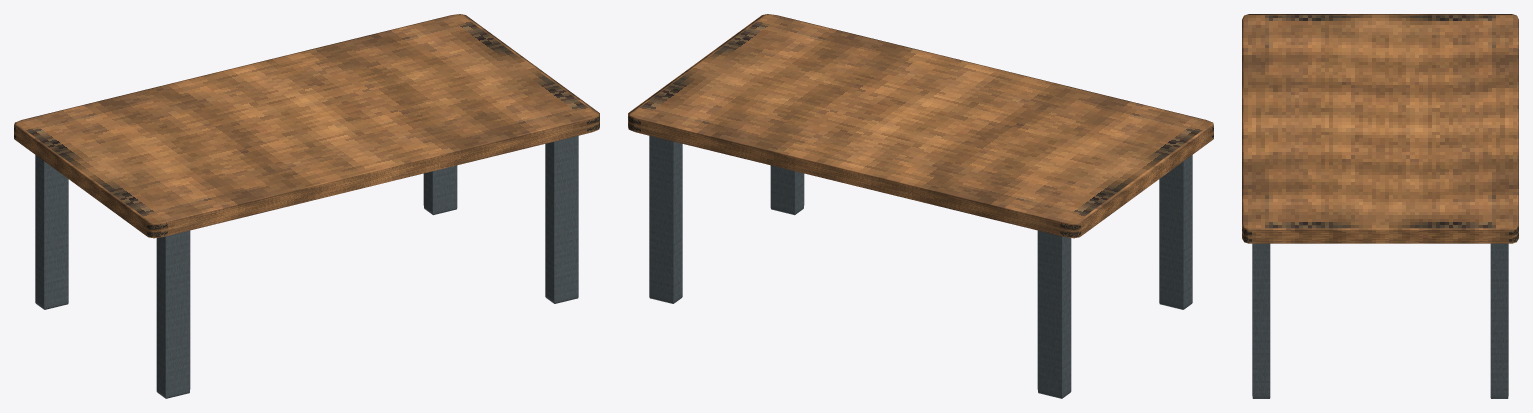
The model's file is coffee-table.glb.
3 renders of one model, left to right at view 1: azimuth 30°, elevation 25°; view 2: azimuth 150°, elevation 25°; view 3: azimuth 270°, elevation 25°, orthographic.
Parts seen in each view (by area): view 1: top, leg (×4); view 2: top, leg (×4); view 3: top, leg (×2).
Part boxes in pixels (left/top/right/bottom): top: left=14, top=14, right=599, bottom=238; leg (×4): left=35, top=135, right=578, bottom=398; top: left=628, top=14, right=1213, bottom=238; leg (×4): left=649, top=135, right=1192, bottom=398; top: left=1242, top=14, right=1518, bottom=243; leg (×2): left=1252, top=243, right=1508, bottom=398.
Bounding box in the file's own units: 1.09 × 0.42 × 0.59.
Materials: 2 (2 with a texture image).
